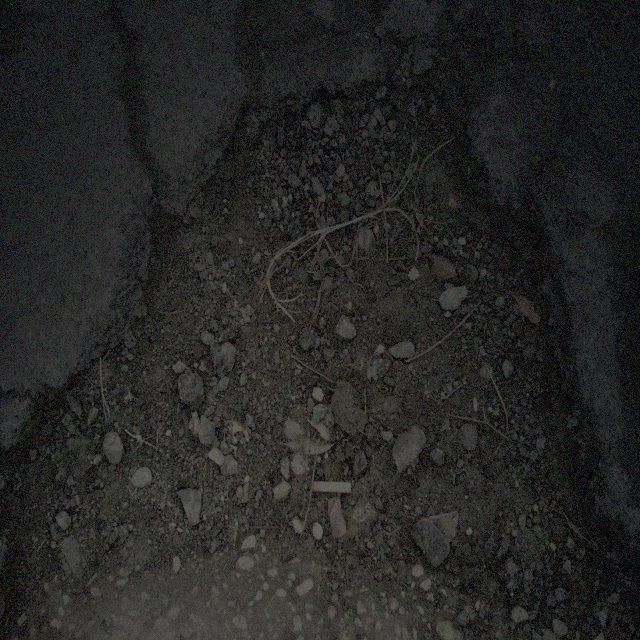pothole: (16, 55, 626, 502)
